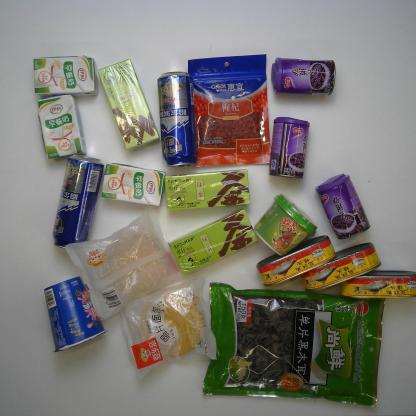Alcohol: (50, 150, 107, 251), (155, 69, 200, 170)
Canned Food: (254, 233, 338, 289), (298, 240, 383, 295), (314, 171, 372, 242), (267, 115, 312, 180), (335, 266, 416, 302), (269, 56, 337, 98)
Dessert: (60, 204, 193, 326), (116, 273, 222, 385), (40, 274, 110, 356)
Dried Food: (198, 280, 390, 411)
Dried Fruit: (181, 52, 277, 170)
Instant Drink: (166, 207, 260, 278), (96, 56, 162, 152), (251, 190, 322, 259), (162, 167, 252, 214)
Milk: (34, 90, 88, 163), (97, 160, 169, 209), (30, 53, 100, 101)
